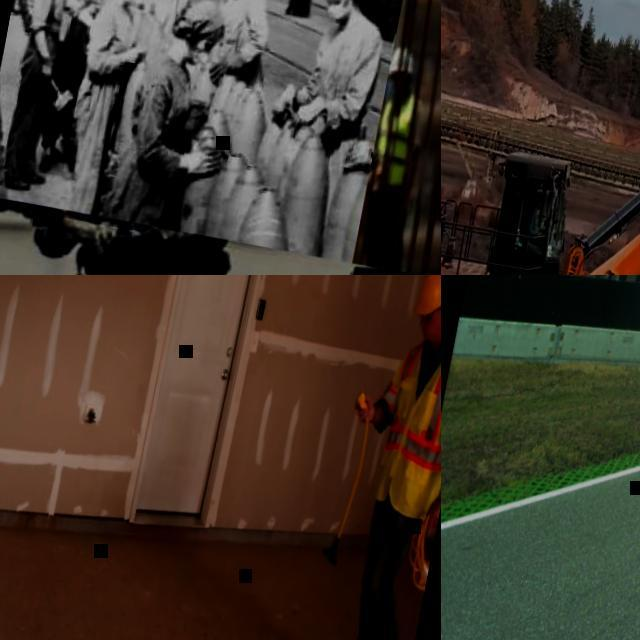helmet: (413, 275, 441, 319), (391, 44, 421, 79)
vest: (365, 325, 441, 490), (372, 95, 426, 186)
